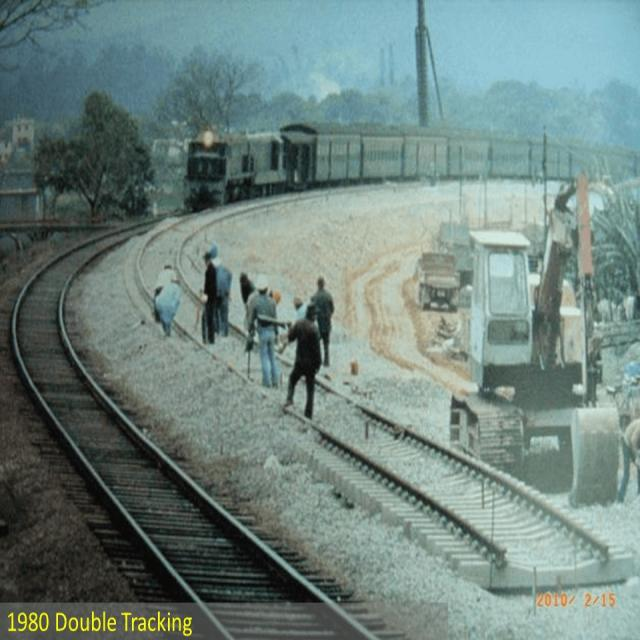body: (283, 302, 324, 421), (248, 273, 282, 390), (587, 274, 639, 330), (489, 258, 524, 340), (309, 274, 336, 369), (612, 412, 639, 507), (210, 244, 233, 338), (154, 274, 182, 340), (200, 250, 219, 346), (152, 260, 178, 326), (239, 271, 257, 339), (288, 290, 308, 325), (268, 286, 284, 303)
